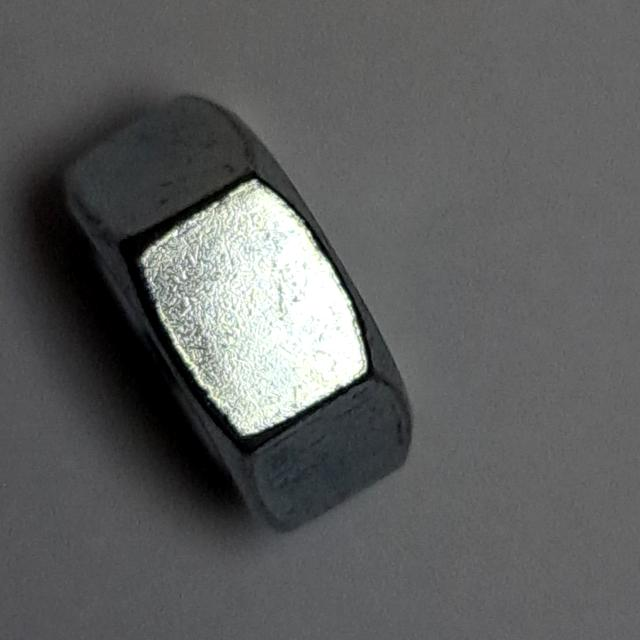Side_Excellent: (53, 79, 430, 545)
